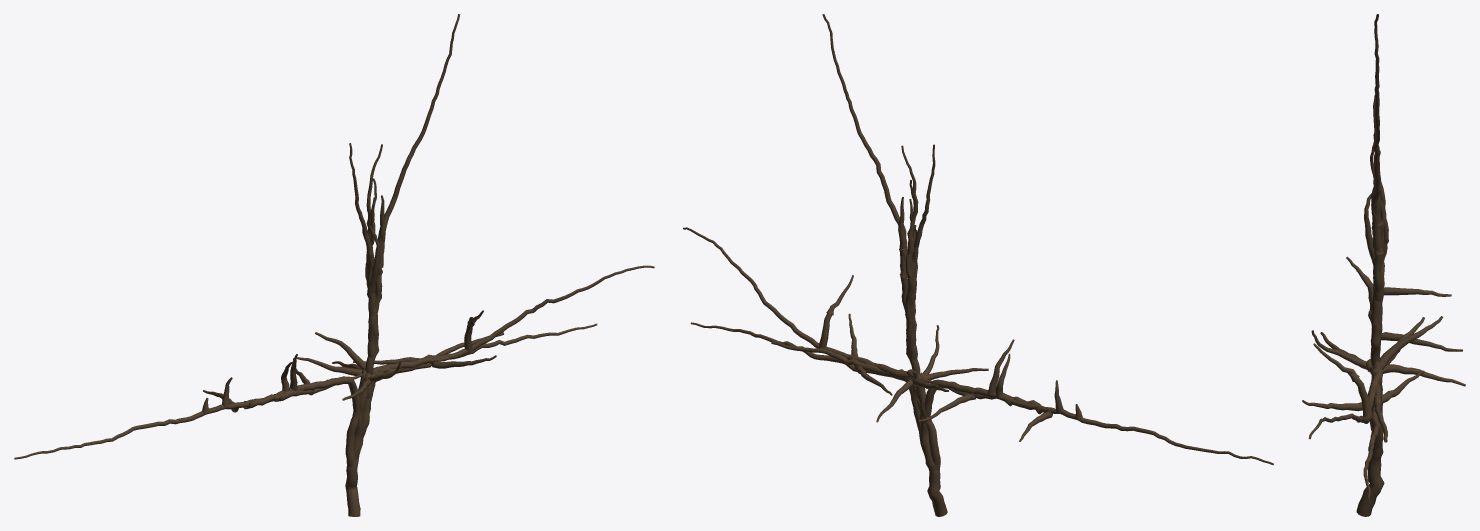
The model's file is branch 02.fbx.
3 views of the same model, side by side, from view 1: azimuth 30°, elevation 25°; view 2: azimuth 150°, elevation 25°; view 3: azimuth 270°, elevation 25° (orthographic). The views are drawn at different scales.
Parts seen in each view (by area): view 1: IVY_Curve.006; view 2: IVY_Curve.006; view 3: IVY_Curve.006.
Part boxes in pixels (x1,y1,x2,y2): IVY_Curve.006: (14, 14, 654, 516); IVY_Curve.006: (683, 14, 1273, 516); IVY_Curve.006: (1302, 14, 1465, 516).
Bounding box in the file's own units: 435 × 321 × 84.36.
